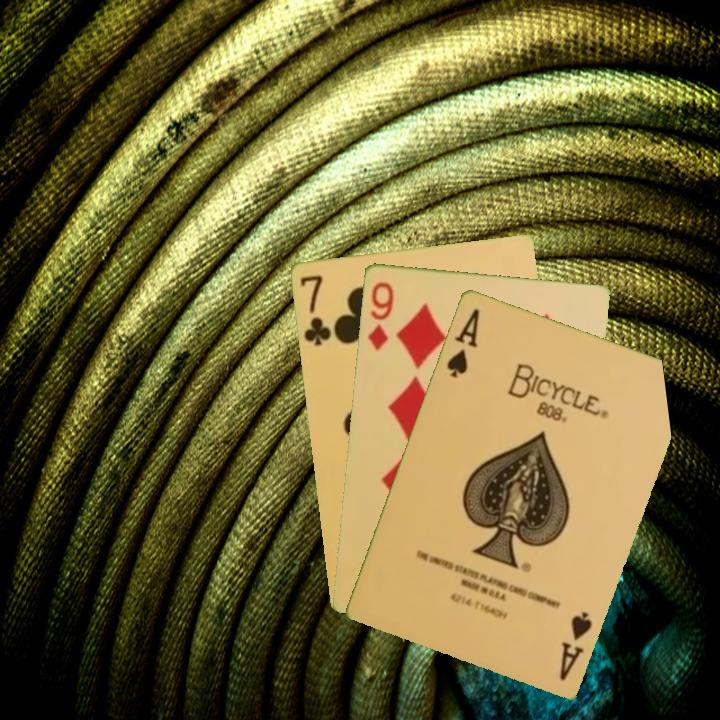7c: (296, 271, 334, 348)
9d: (364, 278, 396, 354)
As: (555, 607, 595, 683), (443, 304, 482, 381)
